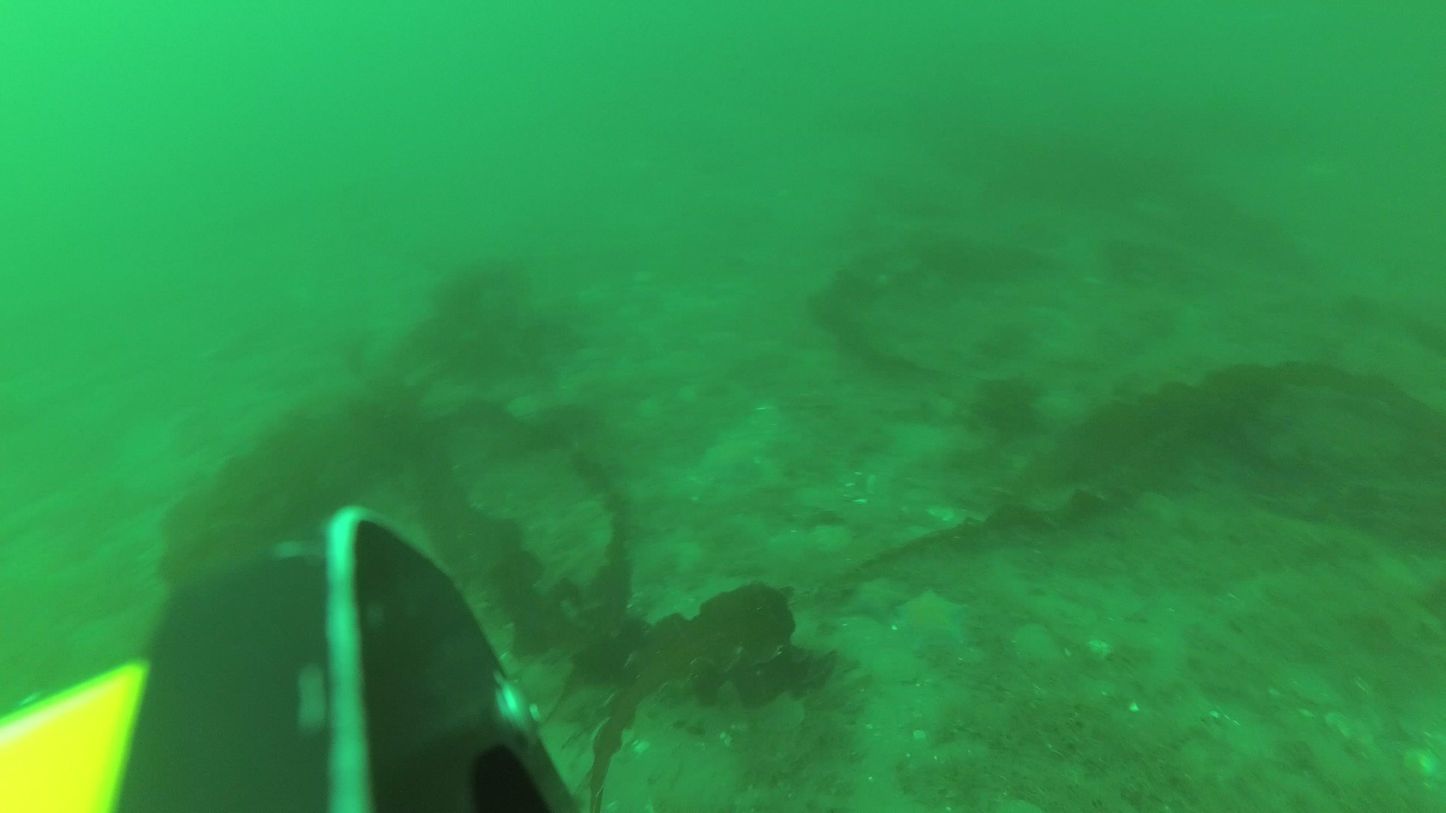holothurian: (900, 585, 975, 656), (842, 569, 914, 627), (693, 437, 761, 490)
scallop: (1005, 618, 1069, 670), (755, 693, 811, 741), (802, 517, 857, 556)
